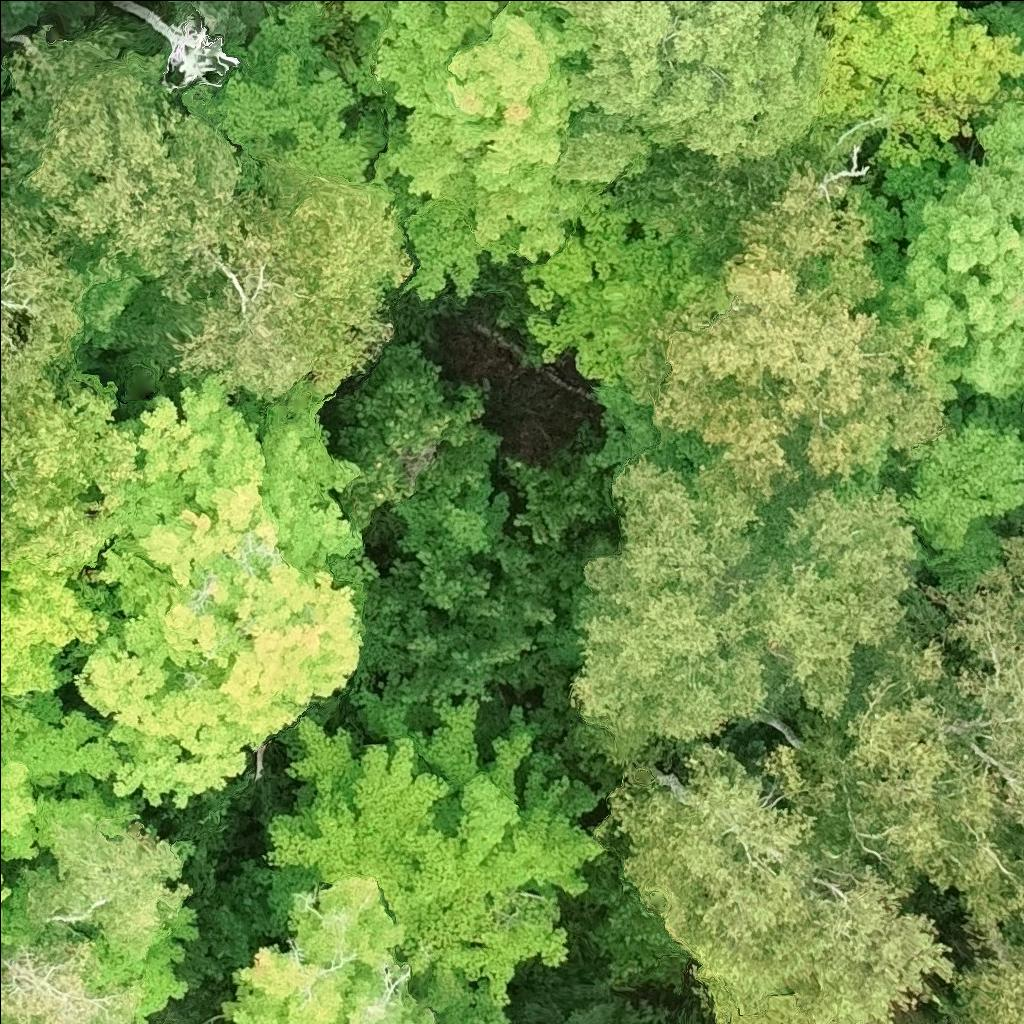crown: (66, 372, 363, 813), (248, 697, 614, 1018), (624, 157, 946, 519), (587, 744, 956, 1023), (789, 558, 1023, 958), (550, 0, 878, 273), (336, 0, 611, 306), (564, 453, 792, 773), (7, 24, 254, 299), (167, 166, 413, 402), (853, 98, 1023, 409), (748, 474, 924, 725), (220, 873, 510, 1023), (176, 0, 386, 194), (0, 682, 143, 964), (520, 194, 724, 391), (814, 0, 1023, 172), (862, 402, 1023, 588), (0, 196, 97, 476), (4, 822, 190, 958), (0, 565, 114, 694), (100, 0, 238, 103), (0, 935, 144, 1023), (507, 961, 671, 1023), (936, 915, 1023, 1023), (0, 0, 89, 37), (1000, 529, 1023, 590), (0, 507, 28, 557)
